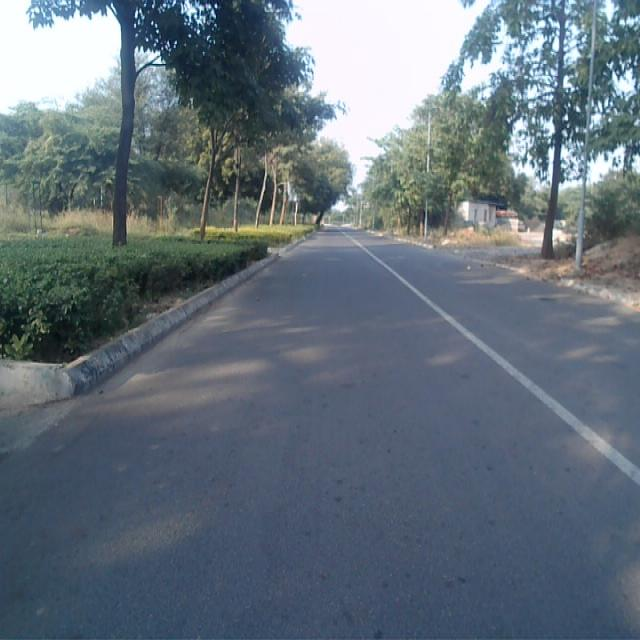lane: (0, 230, 640, 640)
